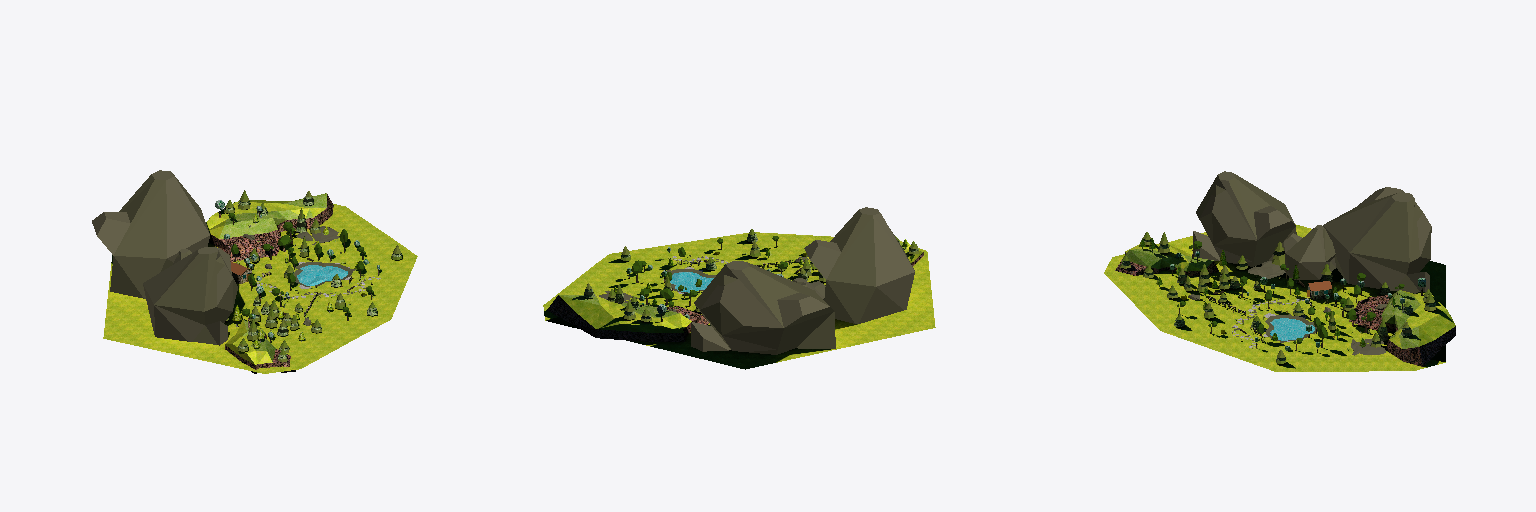
3 renders of one model, left to right at view 1: azimuth 30°, elevation 25°; view 2: azimuth 150°, elevation 25°; view 3: azimuth 270°, elevation 25°, orthographic.
Visible parts, largest first — view 1: Mesh1 G_3DGeom_1 G_3DGeom_11 Assembly_1 SimLab_skp Assembly_2 Mo, Mesh638 G_3DGeom_5_1 Assembly_1 SimLab_skp Assembly_2 Model, Mesh676 G_3DGeom_8_1 Assembly_1 SimLab_skp Assembly_2 Model, Mesh685 G_3DGeom_8_1 Assembly_1 SimLab_skp Assembly_2 Model, Mesh780 G_3DGeom_13 Assembly_1 SimLab_skp Assembly_2 Model, Mesh913 G_3DGeom_27 Assembly_1 SimLab_skp Assembly_2 Model, Mesh686 G_3DGeom_8_1 Assembly_1 SimLab_skp Assembly_2 Model, Mesh7 G_3DGeom_1 G_3DGeom_11 Assembly_1 SimLab_skp Assembly_2 Mo, Mesh501 G_3DGeom_3_1 Assembly_1 SimLab_skp Assembly_2 Model, Mesh2 G_3DGeom_1 G_3DGeom_11 Assembly_1 SimLab_skp Assembly_2 Mo; view 2: Mesh1 G_3DGeom_1 G_3DGeom_11 Assembly_1 SimLab_skp Assembly_2 Mo, Mesh638 G_3DGeom_5_1 Assembly_1 SimLab_skp Assembly_2 Model, Mesh676 G_3DGeom_8_1 Assembly_1 SimLab_skp Assembly_2 Model, Mesh685 G_3DGeom_8_1 Assembly_1 SimLab_skp Assembly_2 Model, Mesh7 G_3DGeom_1 G_3DGeom_11 Assembly_1 SimLab_skp Assembly_2 Mo, Mesh639 G_3DGeom_5_1 Assembly_1 SimLab_skp Assembly_2 Model, Mesh780 G_3DGeom_13 Assembly_1 SimLab_skp Assembly_2 Model, Mesh686 G_3DGeom_8_1 Assembly_1 SimLab_skp Assembly_2 Model, Mesh677 G_3DGeom_8_1 Assembly_1 SimLab_skp Assembly_2 Model, Mesh684 G_3DGeom_8_1 Assembly_1 SimLab_skp Assembly_2 Model, Mesh501 G_3DGeom_3_1 Assembly_1 SimLab_skp Assembly_2 Model; view 3: Mesh1 G_3DGeom_1 G_3DGeom_11 Assembly_1 SimLab_skp Assembly_2 Mo, Mesh638 G_3DGeom_5_1 Assembly_1 SimLab_skp Assembly_2 Model, Mesh639 G_3DGeom_5_1 Assembly_1 SimLab_skp Assembly_2 Model, Mesh685 G_3DGeom_8_1 Assembly_1 SimLab_skp Assembly_2 Model, Mesh780 G_3DGeom_13 Assembly_1 SimLab_skp Assembly_2 Model, Mesh676 G_3DGeom_8_1 Assembly_1 SimLab_skp Assembly_2 Model, Mesh7 G_3DGeom_1 G_3DGeom_11 Assembly_1 SimLab_skp Assembly_2 Mo, Mesh680 G_3DGeom_8_1 Assembly_1 SimLab_skp Assembly_2 Model, Mesh913 G_3DGeom_27 Assembly_1 SimLab_skp Assembly_2 Model, Mesh910 G_3DGeom_27 Assembly_1 SimLab_skp Assembly_2 Model, Mesh501 G_3DGeom_3_1 Assembly_1 SimLab_skp Assembly_2 Model, Mesh677 G_3DGeom_8_1 Assembly_1 SimLab_skp Assembly_2 Model.
Boxes of the visible parts, x1,y1,x2,y2 form: Mesh1 G_3DGeom_1 G_3DGeom_11 Assembly_1 SimLab_skp Assembly_2 Mo: [103, 204, 417, 373]; Mesh638 G_3DGeom_5_1 Assembly_1 SimLab_skp Assembly_2 Model: [110, 174, 237, 344]; Mesh676 G_3DGeom_8_1 Assembly_1 SimLab_skp Assembly_2 Model: [143, 247, 235, 341]; Mesh685 G_3DGeom_8_1 Assembly_1 SimLab_skp Assembly_2 Model: [152, 170, 209, 262]; Mesh780 G_3DGeom_13 Assembly_1 SimLab_skp Assembly_2 Model: [209, 194, 333, 261]; Mesh913 G_3DGeom_27 Assembly_1 SimLab_skp Assembly_2 Model: [219, 210, 298, 238]; Mesh686 G_3DGeom_8_1 Assembly_1 SimLab_skp Assembly_2 Model: [92, 212, 130, 255]; Mesh7 G_3DGeom_1 G_3DGeom_11 Assembly_1 SimLab_skp Assembly_2 Mo: [206, 193, 325, 238]; Mesh501 G_3DGeom_3_1 Assembly_1 SimLab_skp Assembly_2 Model: [297, 265, 347, 285]; Mesh2 G_3DGeom_1 G_3DGeom_11 Assembly_1 SimLab_skp Assembly_2 Mo: [225, 320, 272, 364]; Mesh1 G_3DGeom_1 G_3DGeom_11 Assembly_1 SimLab_skp Assembly_2 Mo: [543, 232, 935, 369]; Mesh638 G_3DGeom_5_1 Assembly_1 SimLab_skp Assembly_2 Model: [742, 210, 914, 354]; Mesh676 G_3DGeom_8_1 Assembly_1 SimLab_skp Assembly_2 Model: [859, 207, 914, 309]; Mesh685 G_3DGeom_8_1 Assembly_1 SimLab_skp Assembly_2 Model: [700, 261, 782, 327]; Mesh7 G_3DGeom_1 G_3DGeom_11 Assembly_1 SimLab_skp Assembly_2 Mo: [559, 295, 691, 332]; Mesh639 G_3DGeom_5_1 Assembly_1 SimLab_skp Assembly_2 Model: [694, 264, 783, 349]; Mesh780 G_3DGeom_13 Assembly_1 SimLab_skp Assembly_2 Model: [547, 295, 708, 341]; Mesh686 G_3DGeom_8_1 Assembly_1 SimLab_skp Assembly_2 Model: [777, 293, 829, 327]; Mesh677 G_3DGeom_8_1 Assembly_1 SimLab_skp Assembly_2 Model: [804, 240, 840, 278]; Mesh684 G_3DGeom_8_1 Assembly_1 SimLab_skp Assembly_2 Model: [691, 322, 730, 351]; Mesh501 G_3DGeom_3_1 Assembly_1 SimLab_skp Assembly_2 Model: [670, 272, 713, 292]; Mesh1 G_3DGeom_1 G_3DGeom_11 Assembly_1 SimLab_skp Assembly_2 Mo: [1104, 224, 1445, 371]; Mesh638 G_3DGeom_5_1 Assembly_1 SimLab_skp Assembly_2 Model: [1196, 173, 1396, 279]; Mesh639 G_3DGeom_5_1 Assembly_1 SimLab_skp Assembly_2 Model: [1350, 199, 1431, 293]; Mesh685 G_3DGeom_8_1 Assembly_1 SimLab_skp Assembly_2 Model: [1323, 192, 1431, 290]; Mesh780 G_3DGeom_13 Assembly_1 SimLab_skp Assembly_2 Model: [1349, 295, 1455, 366]; Mesh676 G_3DGeom_8_1 Assembly_1 SimLab_skp Assembly_2 Model: [1199, 171, 1256, 240]; Mesh7 G_3DGeom_1 G_3DGeom_11 Assembly_1 SimLab_skp Assembly_2 Mo: [1392, 290, 1455, 346]; Mesh680 G_3DGeom_8_1 Assembly_1 SimLab_skp Assembly_2 Model: [1299, 225, 1330, 278]; Mesh913 G_3DGeom_27 Assembly_1 SimLab_skp Assembly_2 Model: [1381, 290, 1420, 334]; Mesh910 G_3DGeom_27 Assembly_1 SimLab_skp Assembly_2 Model: [1125, 249, 1181, 268]; Mesh501 G_3DGeom_3_1 Assembly_1 SimLab_skp Assembly_2 Model: [1270, 318, 1314, 340]; Mesh677 G_3DGeom_8_1 Assembly_1 SimLab_skp Assembly_2 Model: [1254, 206, 1290, 239].
Size of the model in its own units: 82.04 by 21.22 by 78.15.
33 materials, 13 textured.